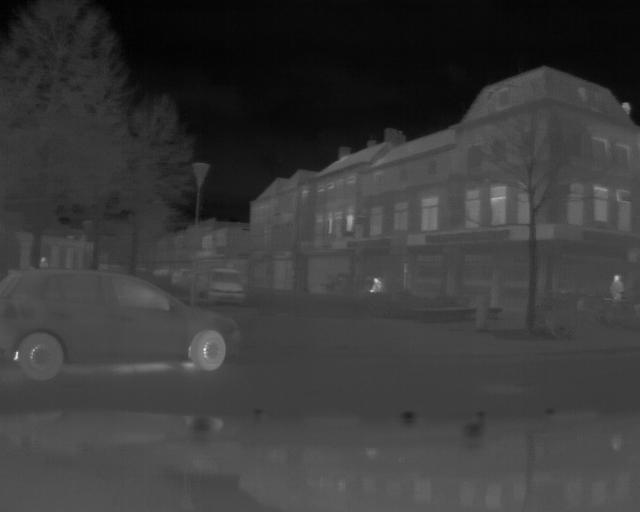car: (1, 265, 244, 388), (207, 268, 246, 306)
person: (608, 271, 624, 307), (370, 276, 384, 298)
